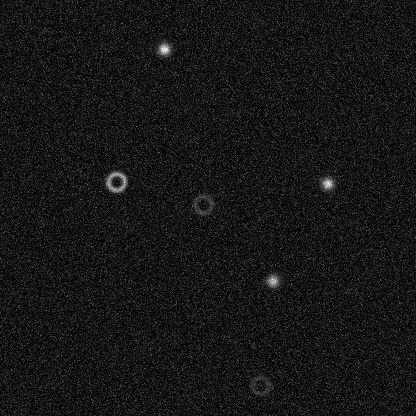Ring: (104, 169, 128, 193), (190, 192, 214, 216), (248, 373, 272, 397)
Spot: (264, 272, 280, 288), (156, 41, 172, 57), (319, 175, 335, 191)
